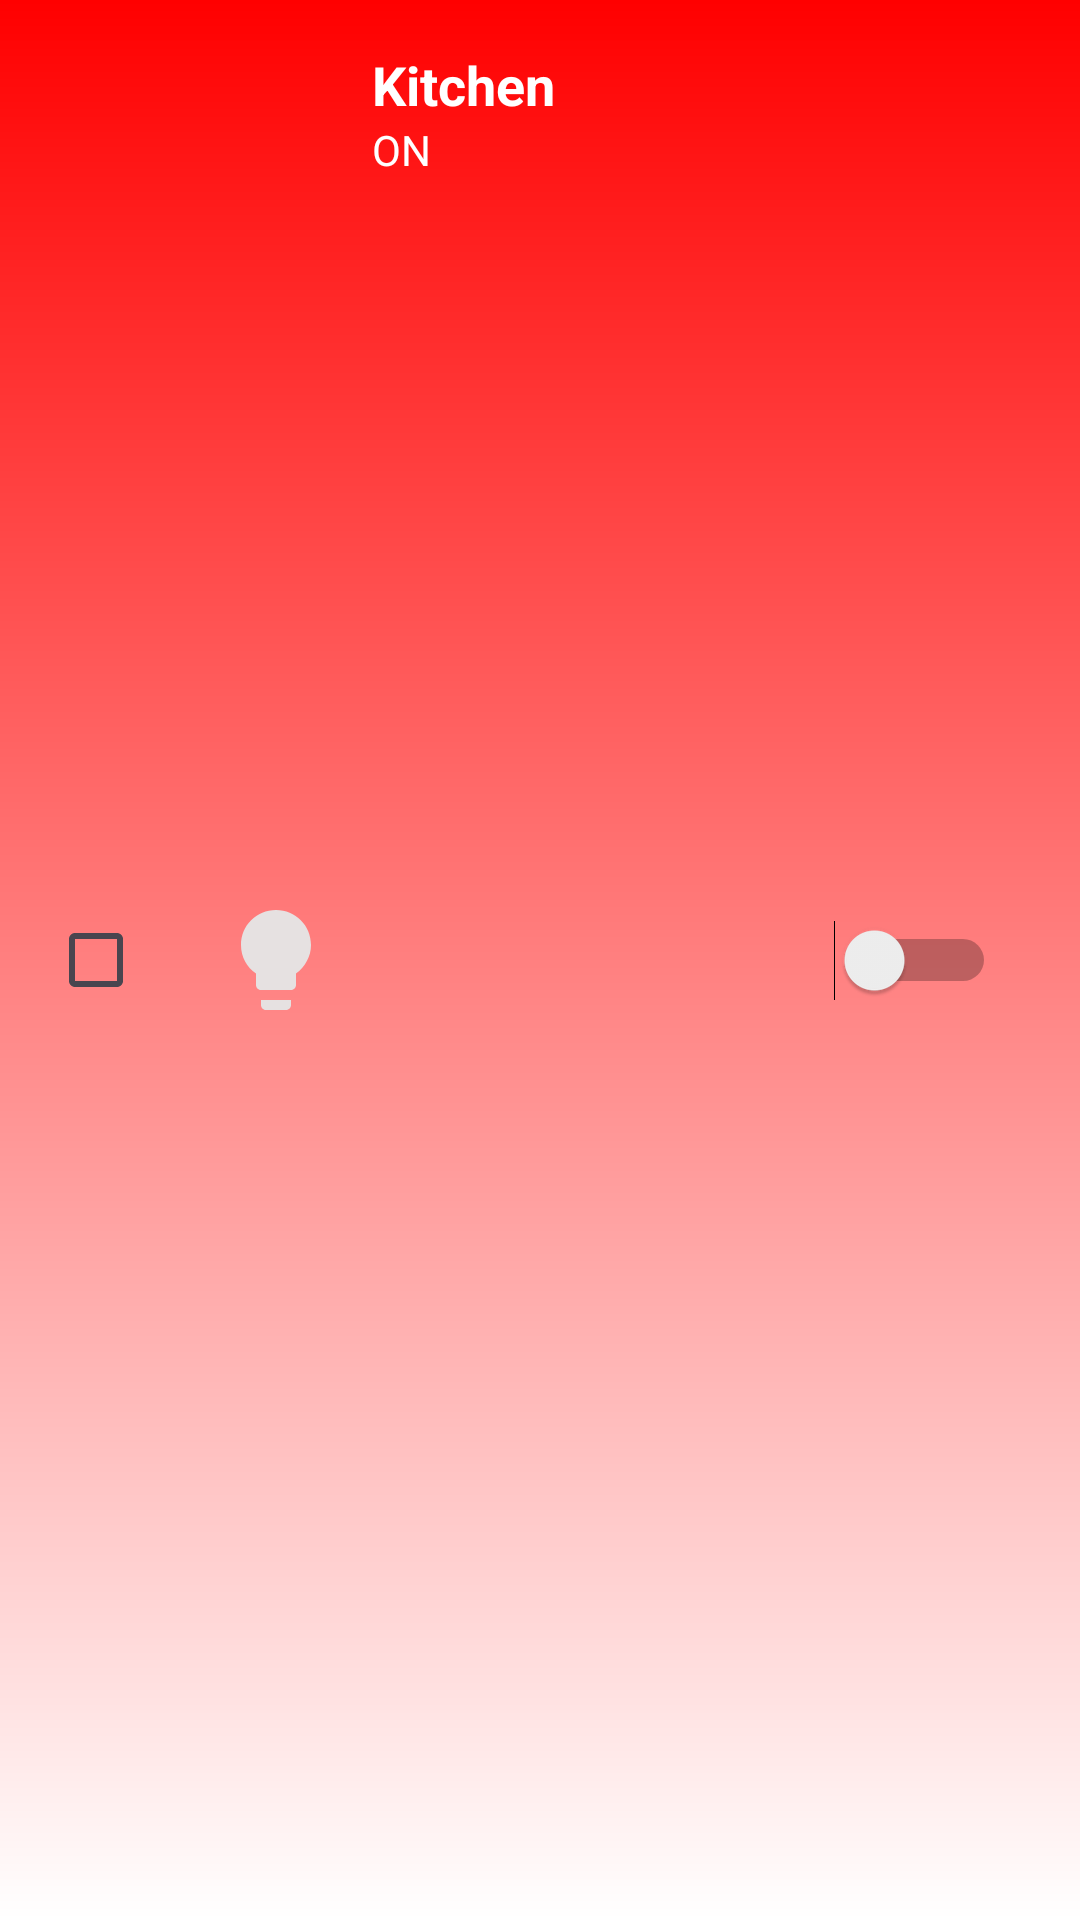

Icons on this 1080px x 1920px Android screen, each with the point to tap as [x,y]:
lightbulb: [276,960]
